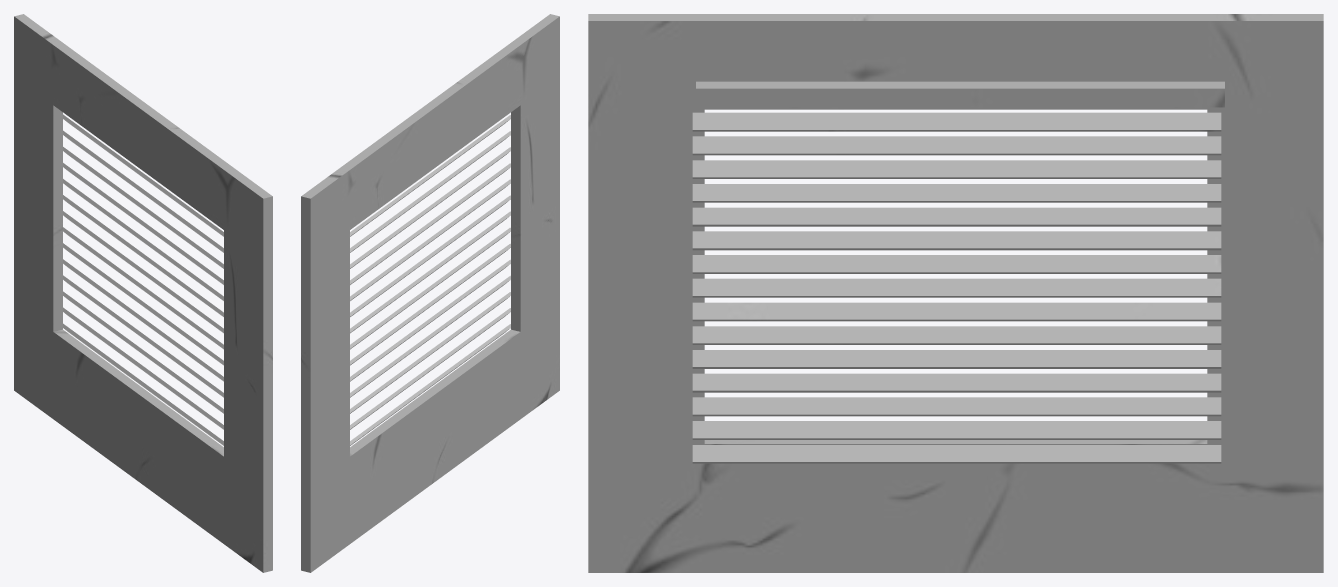
The model's file is duvar6.fbx.
3 views of the same model, side by side, from view 1: azimuth 30°, elevation 25°; view 2: azimuth 150°, elevation 25°; view 3: azimuth 270°, elevation 25° (orthographic). The views are drawn at different scales.
Visible parts, largest first — view 1: Cube_8.006; view 2: Cube_8.006; view 3: Cube_8.006.
Boxes of the visible parts, bbox=[...] form: Cube_8.006: bbox=[14, 14, 272, 572]; Cube_8.006: bbox=[301, 14, 559, 572]; Cube_8.006: bbox=[588, 14, 1323, 572].
Size of the model in its own units: 26.9 by 442 by 534.
